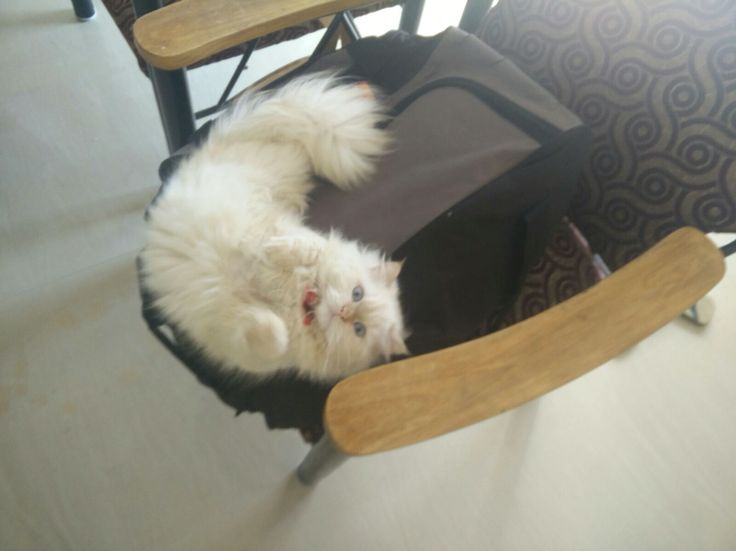cat: (132, 59, 417, 407)
